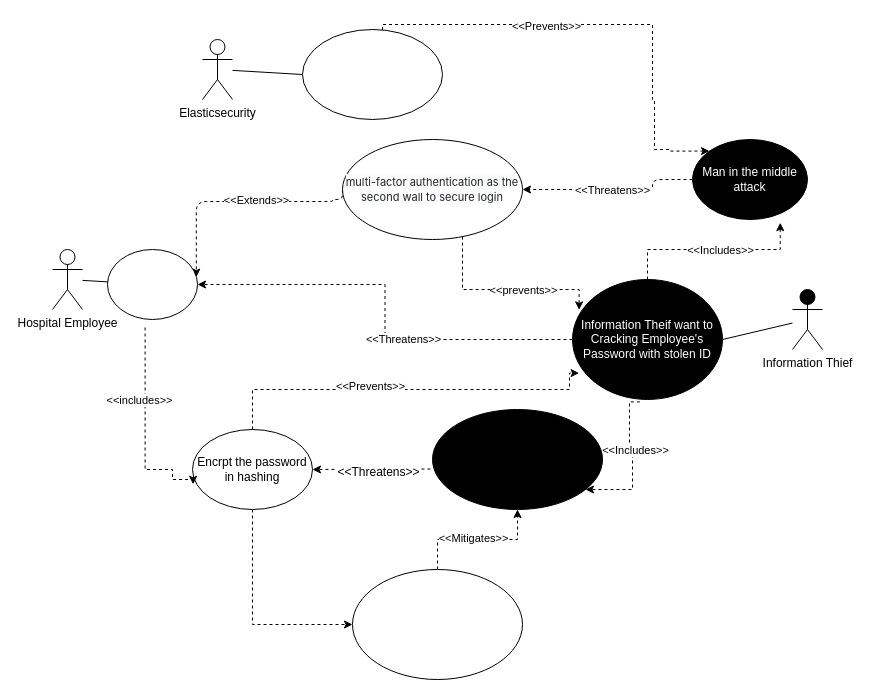
This 869x697 diagram has some shape labels left out. The centre of each missing label's shape, as x and y in pixels:
"force http and IP filter" goes at point (372, 74).
"Login" goes at point (152, 284).
"Rainbow table decrypt the encrypted password hash" goes at point (517, 459).
"Stronger password encrption by Salting Password" goes at point (437, 624).
